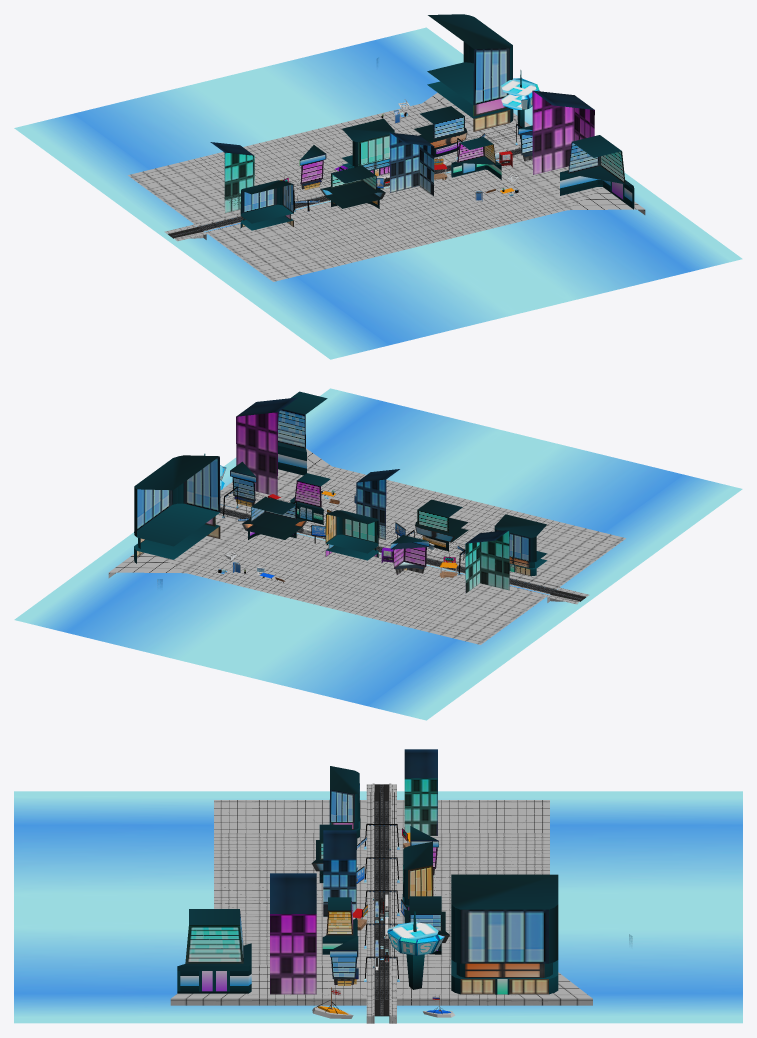
The model's file is subwaysurferstest86.glb.
3 views of the same model, one above another, from view 1: azimuth 30°, elevation 25°; view 2: azimuth 150°, elevation 25°; view 3: azimuth 270°, elevation 25° (orthographic). The views are drawn at different scales.
Visible parts, largest first — view 1: Water, building, building.007, tile.041, tile.059, building.008, building.003, tile.061, building.010, building.011, tile.021, building.009 (+19 smaller); view 2: Water, building, tile.059, building.007, tile.041, building.006, tile.043, building.008, building.011, building.010, tile.057, building.004 (+20 smaller); view 3: Water, building, building.007, building.008, tile.041, tile.059, tile.043, tile.061, building.006, building.003, tile.057, chstower (+18 smaller).
Part boxes in pixels (left/top/right/bottom): Water: left=14, top=27, right=742, bottom=359; building: left=427, top=14, right=513, bottom=131; building.007: left=532, top=90, right=594, bottom=174; tile.041: left=207, top=225, right=331, bottom=281; tile.059: left=128, top=161, right=240, bottom=224; building.008: left=560, top=135, right=634, bottom=209; building.003: left=389, top=132, right=434, bottom=195; tile.061: left=507, top=156, right=645, bottom=214; building.010: left=240, top=180, right=293, bottom=230; building.011: left=342, top=118, right=394, bottom=175; tile.021: left=296, top=205, right=390, bottom=260; building.009: left=320, top=165, right=385, bottom=208; Water: left=14, top=388, right=742, bottom=720; building: left=134, top=455, right=220, bottom=563; tile.059: left=422, top=584, right=546, bottom=644; building.007: left=236, top=397, right=297, bottom=495; tile.041: left=509, top=524, right=625, bottom=587; building.006: left=465, top=530, right=509, bottom=593; tile.043: left=108, top=515, right=244, bottom=578; building.008: left=278, top=391, right=327, bottom=475; building.011: left=325, top=510, right=378, bottom=560; building.010: left=494, top=514, right=547, bottom=576; tile.057: left=363, top=568, right=457, bottom=623; building.004: left=242, top=497, right=307, bottom=539; Water: left=14, top=791, right=742, bottom=1023; building: left=451, top=874, right=558, bottom=994; building.007: left=270, top=873, right=316, bottom=994; building.008: left=177, top=909, right=251, bottom=993; tile.041: left=214, top=800, right=366, bottom=832; tile.059: left=397, top=800, right=549, bottom=832; tile.043: left=397, top=965, right=592, bottom=1005; tile.061: left=170, top=965, right=366, bottom=1005; building.006: left=404, top=749, right=437, bottom=835; building.003: left=323, top=830, right=356, bottom=916; tile.057: left=397, top=849, right=549, bottom=866; chstower: left=387, top=911, right=444, bottom=989.
Bounding box in the file's own units: 562 × 119 × 744.
8 materials, 8 textured.
